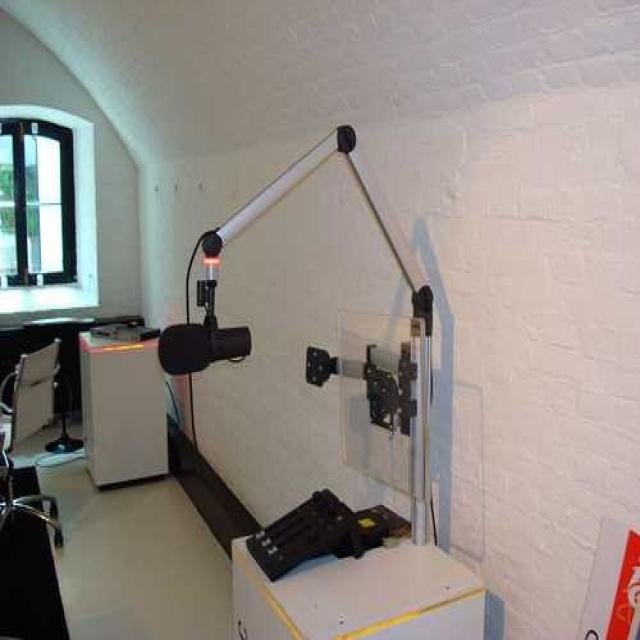microphone: (158, 322, 252, 374)
